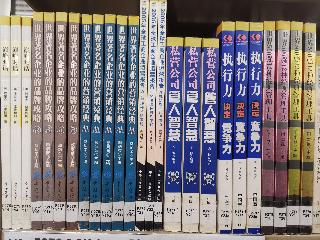book-spine: (163, 37, 186, 232), (231, 20, 251, 235), (180, 38, 202, 233), (199, 38, 220, 234), (245, 23, 264, 237), (111, 15, 129, 232), (123, 16, 141, 232), (273, 20, 291, 234), (143, 1, 159, 232), (99, 14, 116, 231), (286, 21, 303, 235), (88, 14, 104, 231), (261, 21, 277, 235), (153, 2, 168, 230), (77, 14, 92, 231), (301, 23, 316, 236), (66, 13, 80, 232), (135, 0, 148, 232), (220, 22, 234, 233), (54, 13, 67, 232), (31, 12, 43, 231), (43, 12, 55, 231), (10, 15, 22, 229), (20, 18, 32, 230), (0, 16, 11, 229)
